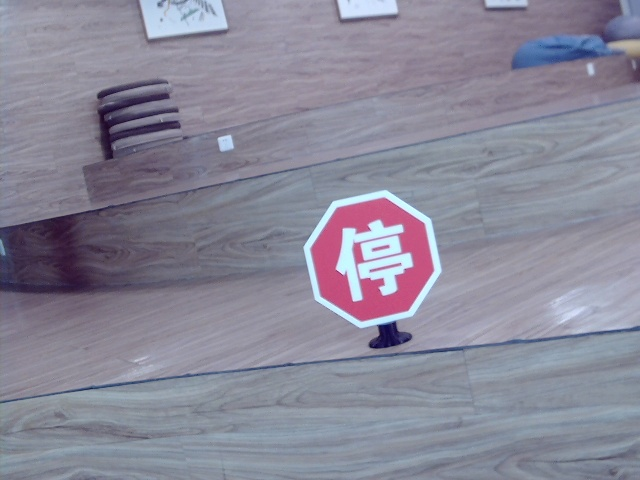stop: (328, 222, 413, 300)
